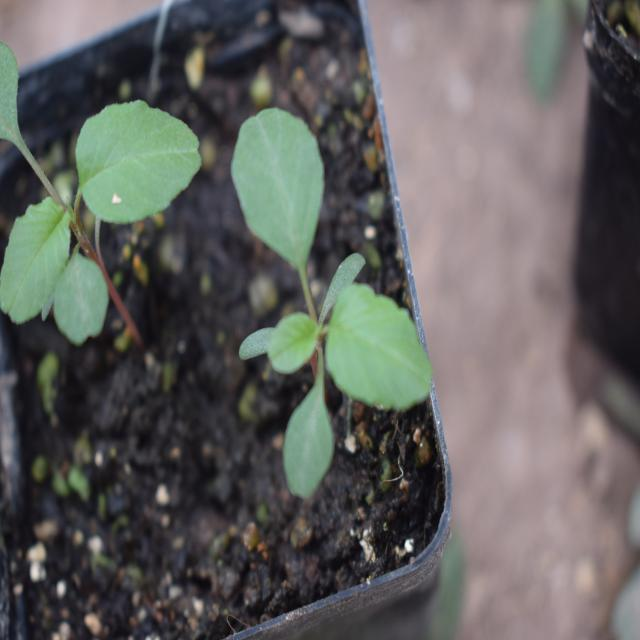pigweed: (225, 100, 424, 462), (0, 63, 198, 325)
